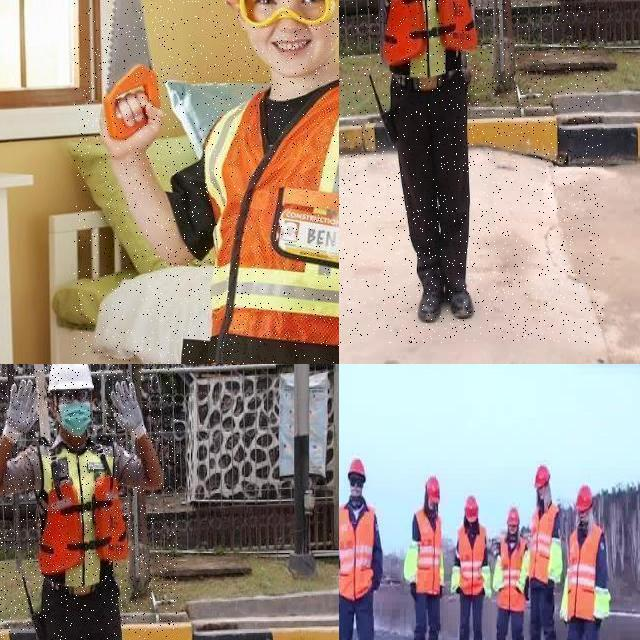BOOTS: (417, 277, 446, 325), (444, 281, 475, 323)
GLASS: (235, 0, 339, 30), (57, 391, 92, 404), (349, 475, 365, 488)
GLOVE: (110, 380, 147, 438), (5, 381, 40, 439)
HELMET: (42, 364, 99, 404), (464, 493, 482, 523), (423, 475, 441, 504), (535, 463, 551, 494), (577, 481, 594, 510), (349, 455, 366, 482), (508, 507, 522, 527)
VEST: (202, 82, 339, 364), (30, 436, 133, 586), (380, 0, 479, 78), (565, 523, 603, 622), (339, 501, 375, 602), (527, 505, 562, 587), (455, 524, 486, 598), (416, 514, 441, 597), (499, 535, 526, 609)
